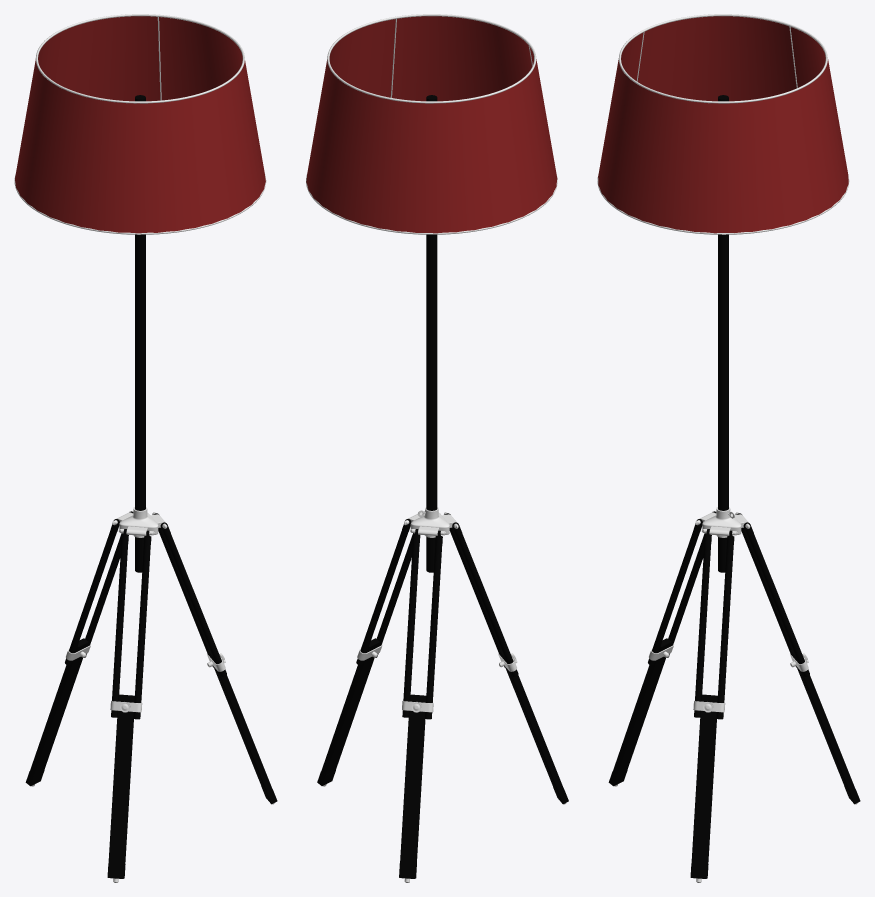
Rendered from Lamp 2.FBX.
3 renders of one model, left to right at view 1: azimuth 30°, elevation 25°; view 2: azimuth 150°, elevation 25°; view 3: azimuth 270°, elevation 25°, orthographic.
Visible parts, largest first — view 1: Lamp 2; view 2: Lamp 2; view 3: Lamp 2.
Part boxes in pixels (x1,y1,x2,y2): Lamp 2: (14,14,277,882); Lamp 2: (306,14,568,882); Lamp 2: (597,14,860,882).
Size of the model in its own units: 22.94 by 22.5 by 72.35.
